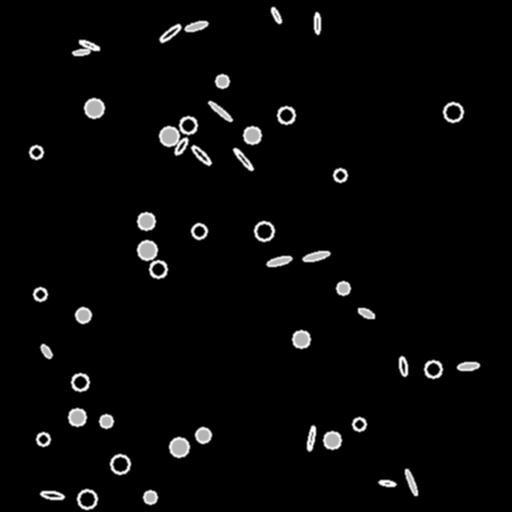pseudomonas: (207, 100, 233, 122), (190, 144, 212, 166), (233, 148, 253, 170), (159, 23, 181, 43), (302, 249, 330, 263), (404, 469, 418, 495), (184, 19, 208, 33), (173, 136, 189, 156), (266, 255, 292, 267), (357, 306, 375, 320), (40, 490, 64, 500), (306, 426, 316, 450), (79, 39, 99, 51), (39, 343, 53, 359), (398, 356, 408, 376), (270, 7, 282, 23), (457, 362, 479, 370), (378, 479, 396, 487), (314, 12, 320, 34), (73, 48, 89, 56)
synechocystis: (444, 103, 462, 121), (170, 438, 188, 456), (138, 241, 156, 259), (255, 222, 273, 240), (85, 99, 103, 117), (111, 455, 129, 473), (78, 490, 96, 508), (160, 127, 178, 145), (244, 127, 260, 143), (72, 374, 88, 390), (278, 107, 294, 123), (180, 117, 196, 133), (150, 261, 166, 277), (324, 432, 340, 448), (425, 361, 441, 377), (69, 409, 85, 425), (138, 213, 154, 229), (293, 331, 309, 347), (76, 308, 90, 322), (192, 224, 206, 238), (196, 428, 210, 442), (30, 146, 42, 158), (144, 491, 156, 503), (37, 433, 49, 445), (353, 418, 365, 430), (334, 169, 346, 181), (216, 75, 228, 87), (337, 282, 349, 294), (100, 415, 112, 427), (34, 288, 46, 300)
